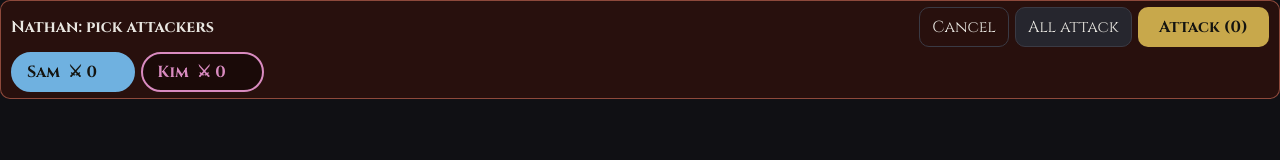
Test case: attackers › in a pod there is one chip per living opponent, one always lit, each counting what is coming at them
This screenshot has width=1280, height=160.
Click the button with class "combat-chip" showing "Kim ⚔ 0" at (203, 72), box [141, 52, 264, 92]
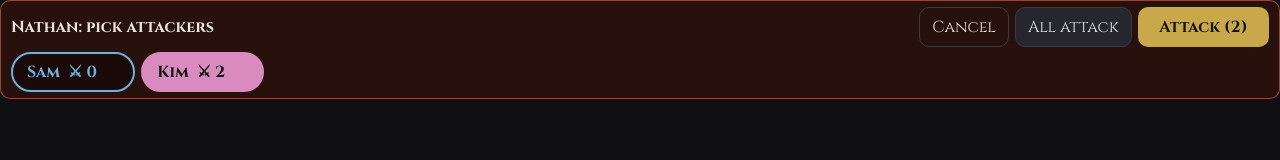
expect the button with class "combat-chip" shows "⚔ 0": met, box [11, 52, 135, 92]
expect the button with class "combat-chip" shows "⚔ 2": met, box [141, 52, 264, 92]
